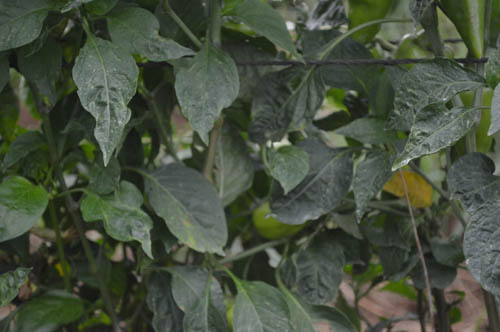ChiliPepper: (460, 87, 489, 158), (448, 1, 485, 56), (249, 204, 302, 240)
